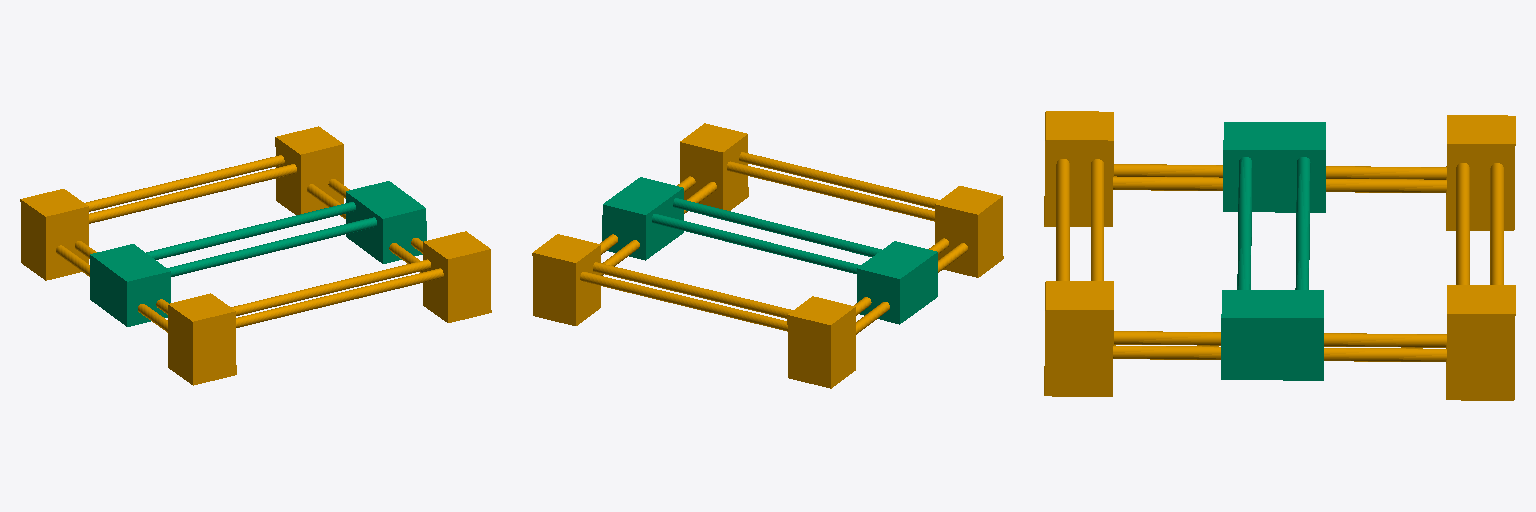
URDF robot description (robot_armm):
<?xml version ="1.0"?> <!-- ประกาศเวอร์ชั่น -->

<robot name = "robot_armm"> <!--ตั้งชื่อ robot -->

<link name = "base_link">
    <visual>
        <geometry>
            <mesh filename="package://robot_description/robot_urdf/robot_base.stl" scale = "0.001 0.001 0.001" />
        </geometry>
        <origin xyz = "-0.35 0.35 0.0" rpy = "1.56 0 0" />
    </visual>

    <collision>
        <geometry>
            <mesh filename ="package://robot_description/robot_urdf/robot_base.stl" scale = "0.001 0.001 0.001"/>
        </geometry>
        <origin xyz = "-0.35 0.35 0.0" rpy = "1.56 0 0" />
    </collision>

     <inertial>
        <origin xyz = "-0.35 0.35 0.0" rpy = "1.56 0 0" />
        <mass value = "0.104"/>
        <inertia ixx = "0.001" ixy = "0" ixz = "0" iyy = "0.001" iyz = "0" izz = "0.001"/>
    </inertial>
</link>

<!-- ////////////    link1    /////////// -->
<link name = "link1">
    <visual>
        <geometry>
            <mesh filename="package://robot_description/robot_urdf/robot_link1.stl" scale = "0.001 0.001 0.001" />
        </geometry>
        <origin xyz = "0.076 0.052 -0.007" rpy = "1.56 3.15 0" />
    </visual>

    <collision>
        <geometry>
            <mesh filename ="package://robot_description/robot_urdf/robot_link1.stl" scale = "0.001 0.001 0.001"/>
        </geometry>
        <origin xyz = "0.076 0.35 0.076" rpy = "1.56 0 0" />
    </collision>

     <inertial>
        <origin xyz = "0.076 0.0 0.076" rpy = "1.56 0 0" />
        <mass value = "0.104"/>
        <inertia ixx = "0.001" ixy = "0" ixz = "0" iyy = "0.001" iyz = "0" izz = "0.001"/>
    </inertial>
</link>

<!-- ////////////    joint1    /////////// -->
<joint name = "joint1" type = "prismatic">

    <parent link = "base_link"/>  
    <child link = "link1"/> 
    <origin xyz = "0 0.3 0.14" rpy = "0 0 0"/> 
    <axis xyz = "1 0 0"/>

    <limit lower = "-0.15" upper = "0.15" effort = "100" velocity = "1"/>
</joint>


<!-- ////////////    link2    /////////// -->
<link name = "link2">
    <visual>
        <geometry>
            <mesh filename="package://robot_description/robot_urdf/robot_link2.stl" scale = "0.001 0.001 0.001" />
        </geometry>
        <origin xyz = "-0.62 -0.075 -0.11" rpy = "1.566 0.0 1.566" />
    </visual>

    <collision>
 
        <geometry>
            <mesh filename ="package://robot_description/robot_urdf/robot_link2.stl" scale = "0.001 0.001 0.001"/>
        </geometry>
        <origin xyz = "-0.35 -0.075 -0.065" rpy = "1.56 0 0" />
    </collision>

     <inertial>
        <origin xyz = "-0.35 -0.075 -0.065" rpy = "1.56 0 0" />
        <mass value = "0.104"/>

        <inertia ixx = "0" ixy = "0" ixz = "0" iyy = "0.001" iyz = "0.0" izz = "0.001"/>
    </inertial>
</link>

<!-- ////////////    joint2    /////////// -->
<joint name = "joint2" type = "prismatic">

    <parent link = "base_link"/>    
    <child link = "link2"/>   
    <origin xyz = "0.27 0 0.14" rpy = "0 0 0"/>  
    <axis xyz = "0 1 0"/>      

    <limit lower = "-0.15" upper = "0.15" effort = "100" velocity = "1"/>
</joint>



</robot>

--- Render facts (derived) ---
3 views of the same robot in one strip: view 1: azimuth 30°, elevation 25°; view 2: azimuth 150°, elevation 25°; view 3: azimuth 270°, elevation 25° (orthographic).
Robot: robot_armm — 3 links, 2 joints (2 prismatic); root link base_link; default pose: every joint at zero.
Links seen in each view (by area): view 1: base_link, link2; view 2: base_link, link2; view 3: base_link, link2.
Boxes of the visible links, <box> form: base_link: <box>20,126,491,385</box>; link2: <box>90,181,426,326</box>; base_link: <box>532,123,1003,388</box>; link2: <box>602,177,937,324</box>; base_link: <box>1044,111,1515,400</box>; link2: <box>1221,122,1325,380</box>.
Bounding box of the posed robot: 0.6882 × 0.6885 × 0.1474 m (x, y, z).
Meshes: 3 distinct files referenced, 2 mesh visuals loaded (2 binary STL); not drawn: 1 (reference not matched to a file when rendering).